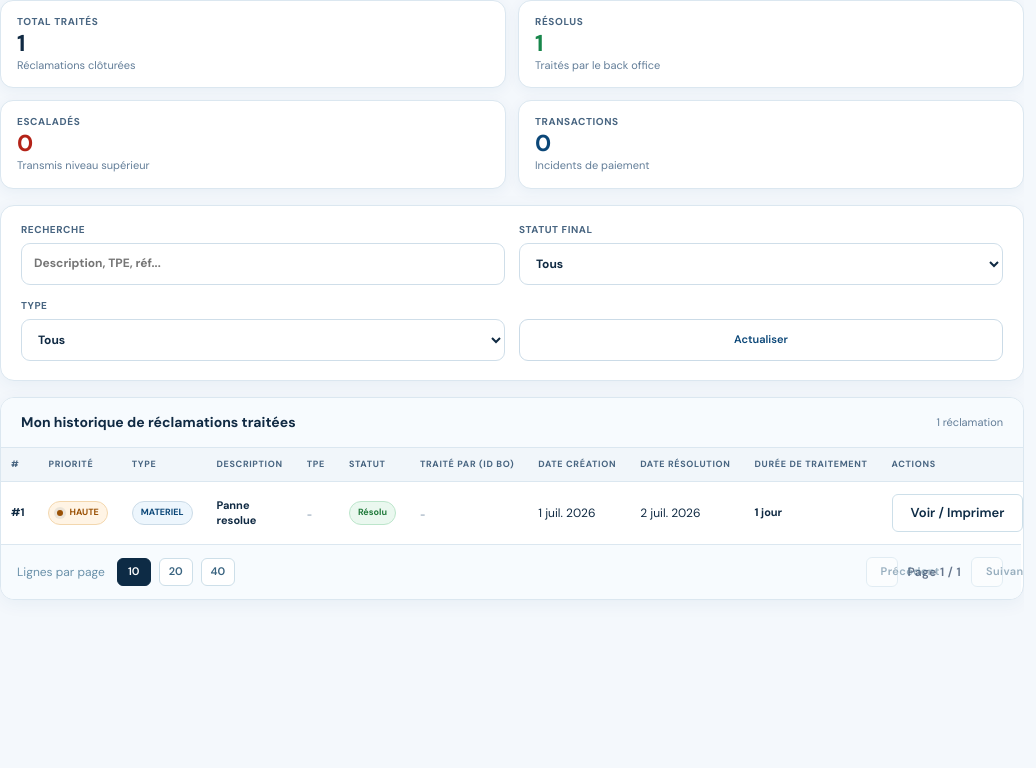
Scenario: BackofficeReclamationHistoryPage › affiche une erreur si l'ouverture de la fiche PDF echoue
This screenshot has width=1036, height=768.
Expected: the text "Panne resolue" is shown, [216, 498, 256, 527]
Step 1. Click the button "Voir / Imprimer" → (957, 513), box [892, 494, 1023, 532]
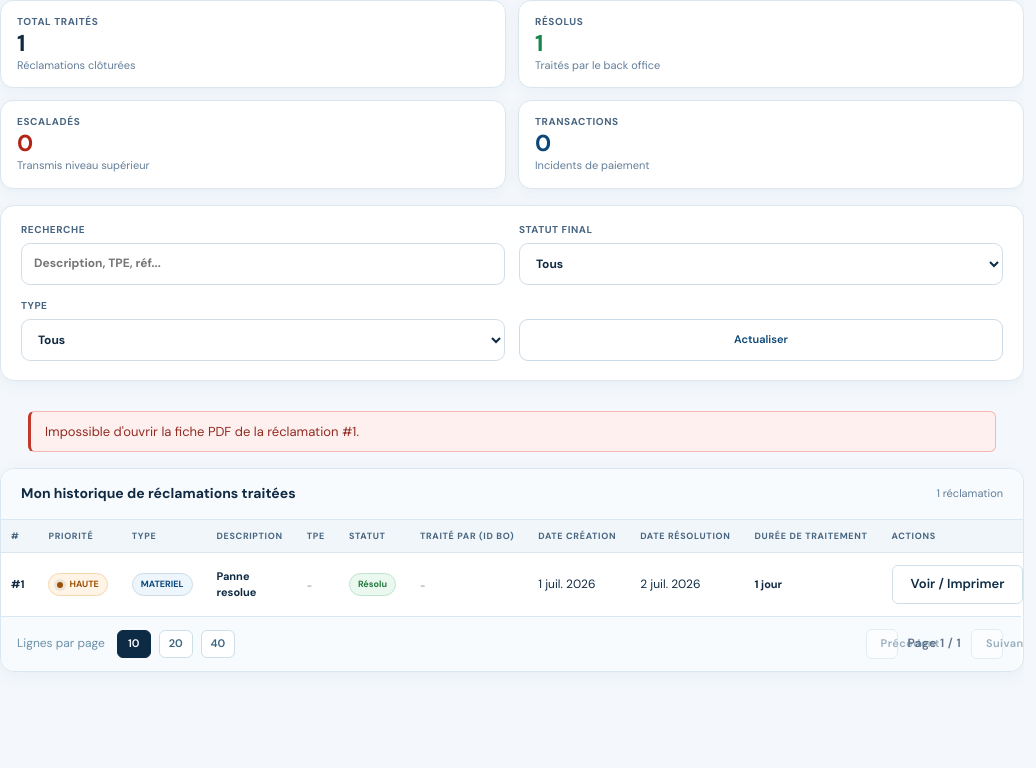
Now the text "Impossible d'ouvrir la fiche PDF de la réclamation #1." is shown, box [28, 411, 996, 452]
